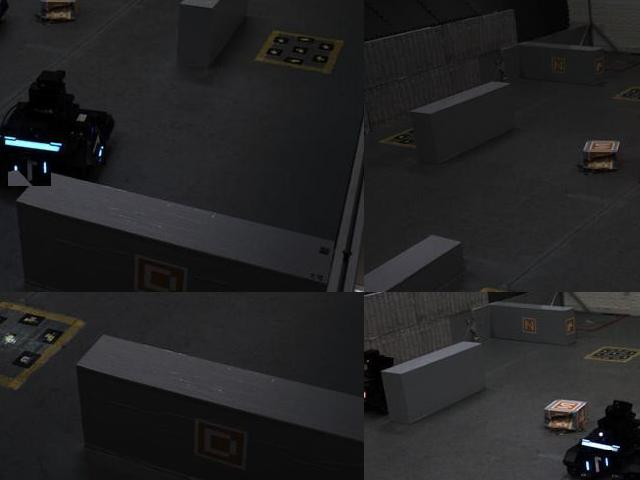armor: (9, 155, 53, 188), (581, 450, 614, 479), (88, 123, 108, 167), (364, 388, 369, 409)
